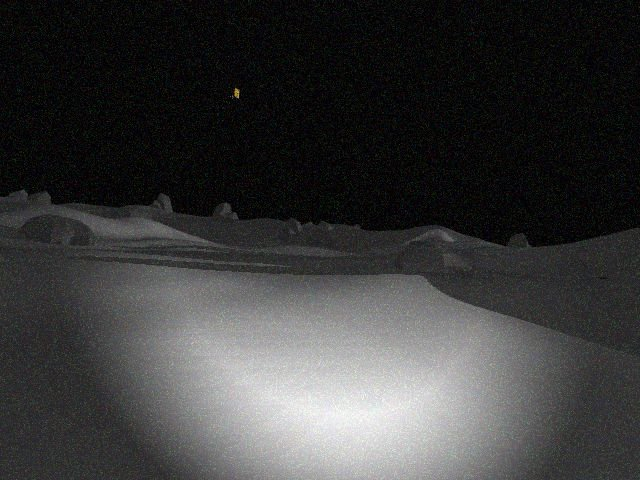cubesat: (220, 83, 241, 101)
